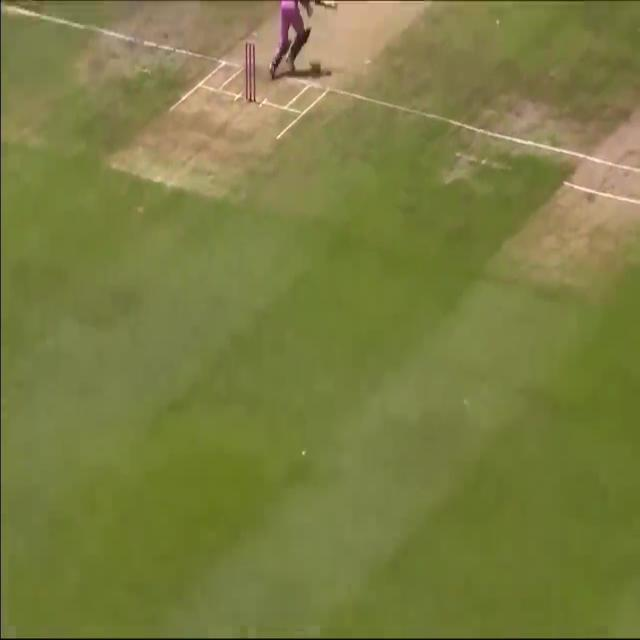Ball: (262, 0, 333, 81)
